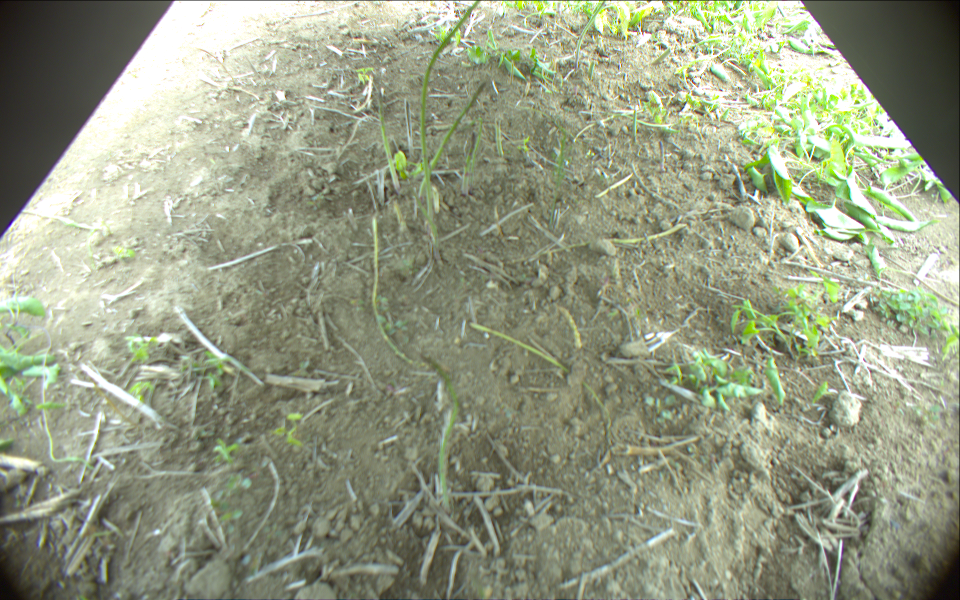aspa: (421, 1, 482, 258), (468, 321, 613, 427), (417, 79, 488, 197), (371, 218, 413, 366), (528, 222, 690, 258), (426, 355, 457, 511), (377, 83, 399, 192), (574, 1, 607, 71), (558, 303, 582, 351), (461, 129, 479, 192), (404, 96, 415, 153), (494, 117, 503, 159), (633, 104, 641, 143), (657, 141, 667, 171), (588, 58, 597, 79)
